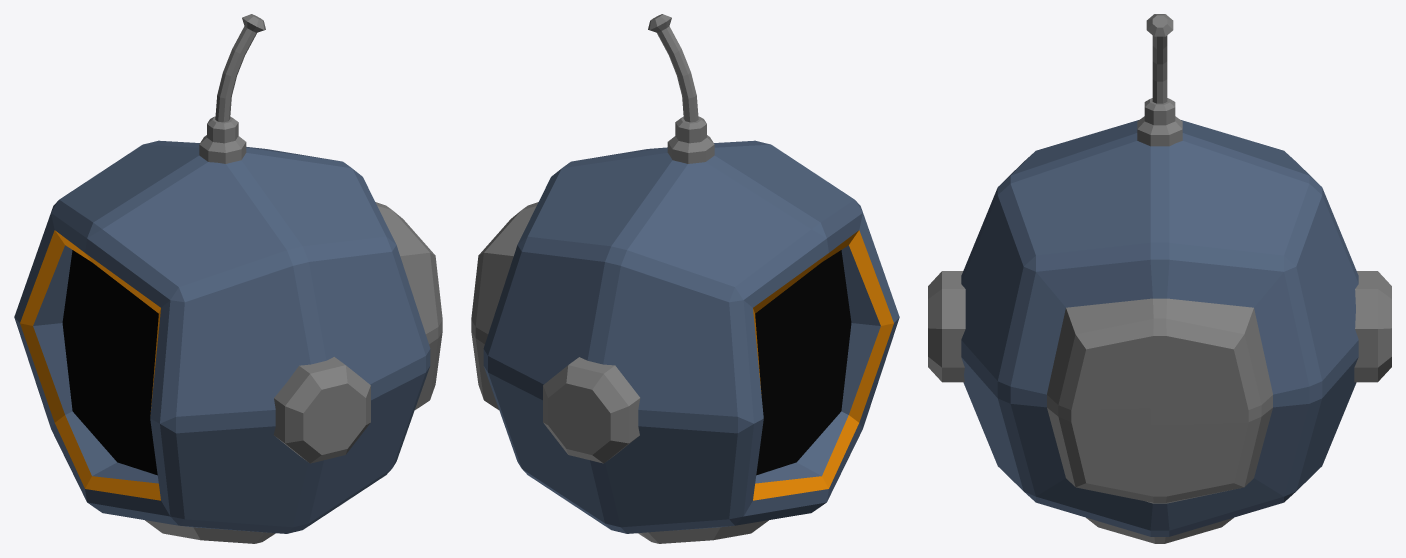
Rendered from playerbot.fbx.
The picture shows the model from 3 angles, left to right: view 1: azimuth 30°, elevation 25°; view 2: azimuth 150°, elevation 25°; view 3: azimuth 270°, elevation 25°; orthographic projection. The views are drawn at different scales.
Parts seen in each view (by area): view 1: Player; view 2: Player; view 3: Player.
Boxes of the visible parts, x1,y1,x2,y2 form: Player: (14,14,442,543); Player: (471,14,899,543); Player: (928,14,1391,543).
Bounding box in the file's own units: 244 × 372 × 299.
